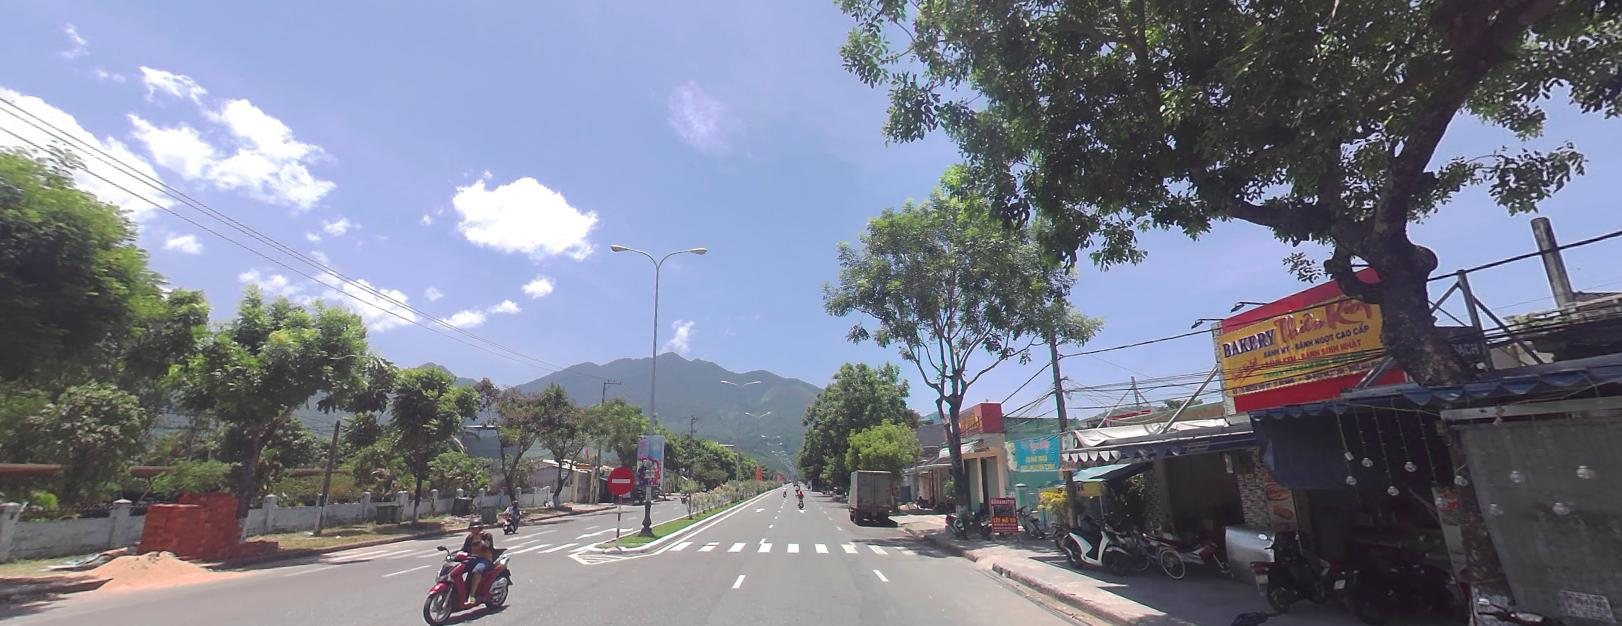Cam nguoc chieu: (607, 466, 633, 493)
